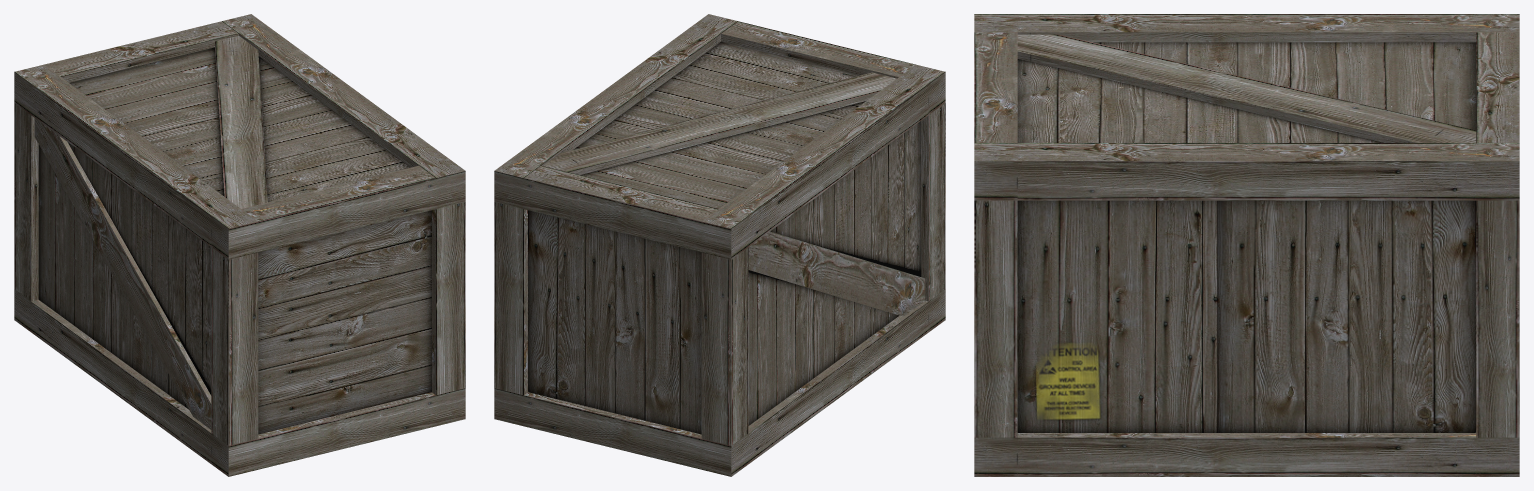
Rendered from woodb4.fbx.
3 views of the same model, side by side, from view 1: azimuth 30°, elevation 25°; view 2: azimuth 150°, elevation 25°; view 3: azimuth 270°, elevation 25° (orthographic). The views are drawn at different scales.
Visible parts, largest first — view 1: woodb4_Layer1; view 2: woodb4_Layer1; view 3: woodb4_Layer1.
Boxes of the visible parts, left/top/right/bottom form: woodb4_Layer1: left=14, top=14, right=465, bottom=476; woodb4_Layer1: left=494, top=14, right=945, bottom=476; woodb4_Layer1: left=974, top=14, right=1519, bottom=476.
Size of the model in its own units: 64 by 64 by 100.
1 material, 1 textured.
